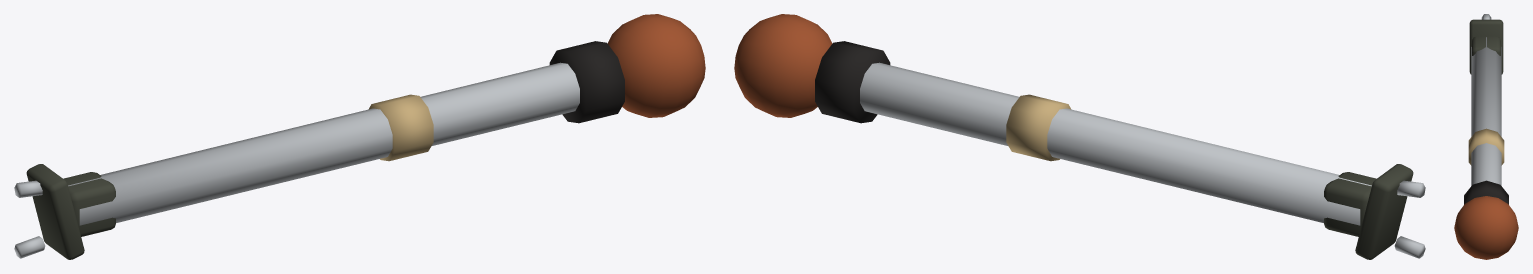
The model's file is item_slot_handle.glb.
3 views of the same model, side by side, from view 1: azimuth 30°, elevation 25°; view 2: azimuth 150°, elevation 25°; view 3: azimuth 270°, elevation 25° (orthographic). The views are drawn at different scales.
Visible parts, largest first — view 1: rod, ball, collar, plate, tape, lug, bolt_0, bolt_1; view 2: rod, ball, collar, plate, tape, lug, bolt_0, bolt_1; view 3: rod, ball, plate, tape, collar, lug, bolt_1.
Boxes of the visible parts, left/top/right/bottom form: rod: left=68, top=62, right=579, bottom=225; ball: left=607, top=14, right=705, bottom=117; collar: left=549, top=41, right=624, bottom=123; plate: left=26, top=164, right=84, bottom=259; tape: left=368, top=94, right=433, bottom=161; lug: left=63, top=172, right=115, bottom=236; bolt_0: left=14, top=236, right=45, bottom=258; bolt_1: left=14, top=180, right=42, bottom=197; rod: left=860, top=62, right=1371, bottom=225; ball: left=734, top=14, right=832, bottom=117; collar: left=815, top=41, right=890, bottom=123; plate: left=1355, top=164, right=1413, bottom=259; tape: left=1006, top=94, right=1071, bottom=161; lug: left=1324, top=172, right=1376, bottom=236; bolt_0: left=1394, top=236, right=1425, bottom=258; bolt_1: left=1397, top=180, right=1425, bottom=197; rod: left=1471, top=37, right=1501, bottom=185; ball: left=1454, top=196, right=1518, bottom=259; plate: left=1469, top=19, right=1503, bottom=74; tape: left=1468, top=128, right=1504, bottom=165; collar: left=1464, top=180, right=1508, bottom=204; lug: left=1472, top=36, right=1500, bottom=55; bolt_1: left=1481, top=14, right=1491, bottom=19.
Size of the model in its own units: 0.4364 by 0.058 by 0.058.
